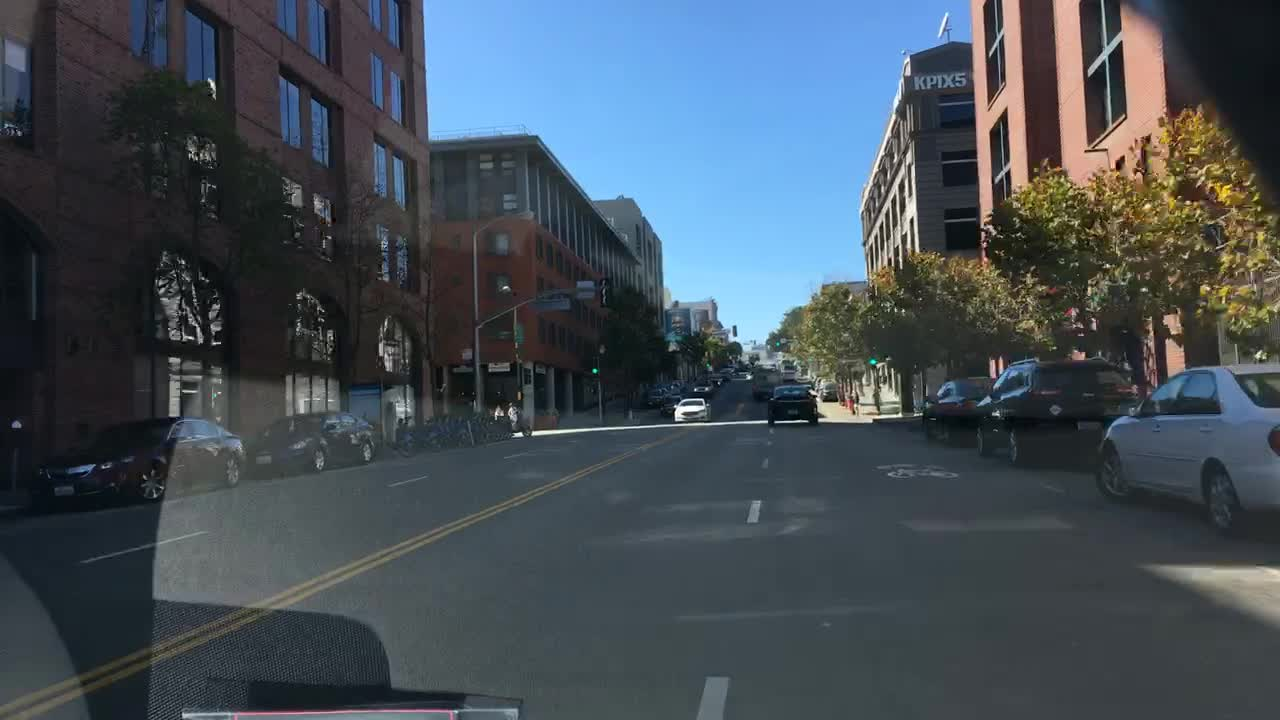bike: (393, 415, 417, 454), (423, 413, 442, 451), (463, 411, 476, 444), (458, 394, 473, 416), (448, 416, 458, 447), (476, 418, 487, 440), (492, 418, 503, 439)
car: (1096, 360, 1278, 534), (29, 415, 245, 510), (975, 355, 1142, 465), (250, 414, 375, 475), (920, 376, 996, 424), (768, 383, 821, 422), (749, 368, 782, 401), (673, 398, 712, 420), (660, 393, 682, 412), (644, 387, 662, 407), (824, 380, 840, 401), (689, 383, 710, 394), (783, 368, 798, 380), (711, 374, 723, 387), (720, 369, 731, 381)
person: (844, 392, 861, 417)
traffic light: (866, 354, 878, 369), (591, 361, 599, 376)
traffic sign: (572, 278, 593, 302), (487, 360, 510, 372), (512, 322, 525, 343), (453, 364, 473, 372), (463, 348, 472, 361)
